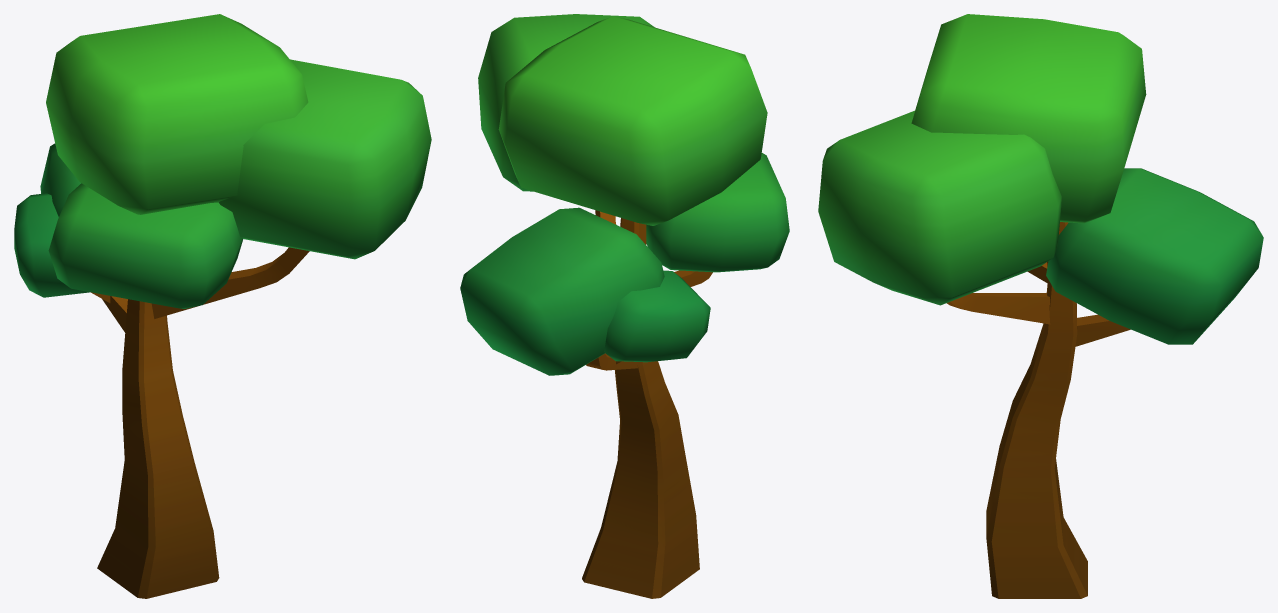
Rendered from Tree_A_7.fbx.
The picture shows the model from 3 angles, left to right: view 1: azimuth 30°, elevation 25°; view 2: azimuth 150°, elevation 25°; view 3: azimuth 270°, elevation 25°; orthographic projection. The views are drawn at different scales.
Parts seen in each view (by area): view 1: Tree_A_7; view 2: Tree_A_7; view 3: Tree_A_7.
Boxes of the visible parts, x1,y1,x2,y2 form: Tree_A_7: (14,14,431,598); Tree_A_7: (460,14,789,598); Tree_A_7: (818,14,1263,598).
Size of the model in its own units: 295 by 438 by 329.
